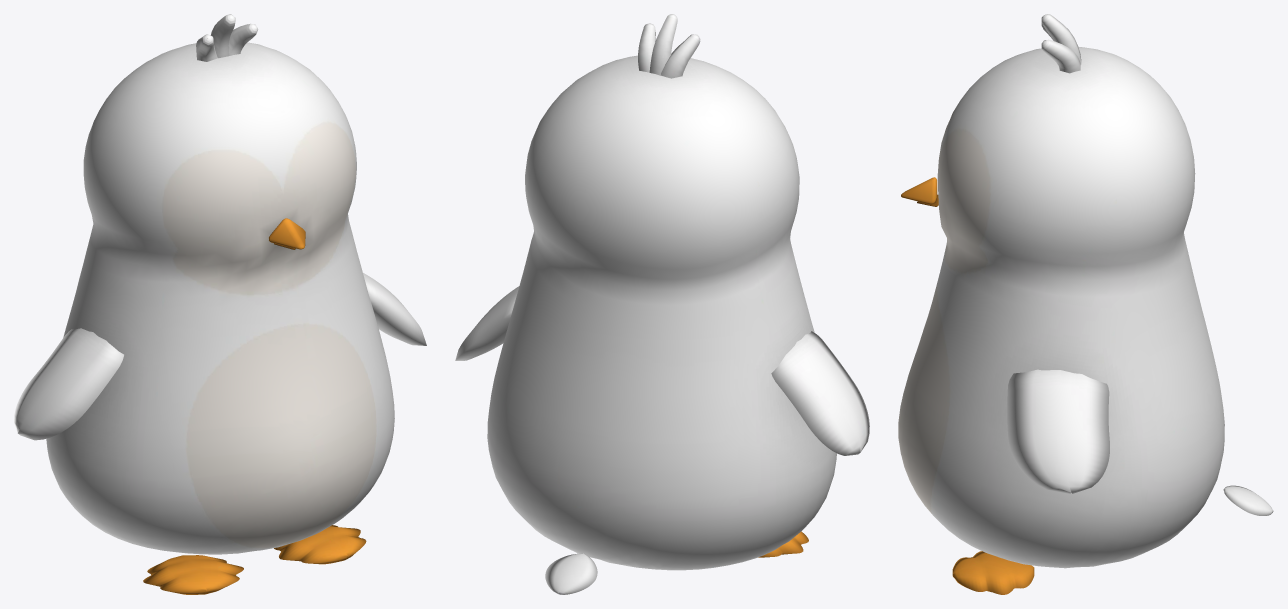
The model's file is pinguino.glb.
3 views of the same model, side by side, from view 1: azimuth 30°, elevation 25°; view 2: azimuth 150°, elevation 25°; view 3: azimuth 270°, elevation 25° (orthographic).
Parts seen in each view (by area): view 1: cuerpo, brazoI, brazoD, copete, cabeza; view 2: cuerpo, brazoI, copete, brazoD; view 3: cuerpo, brazoD, copete, cabeza.
Boxes of the visible parts, bbox=[...] form: cuerpo: bbox=[46, 42, 394, 594]; brazoI: bbox=[14, 328, 123, 440]; brazoD: bbox=[363, 273, 426, 345]; copete: bbox=[196, 14, 257, 61]; cabeza: bbox=[269, 218, 305, 249]; cuerpo: bbox=[487, 55, 836, 594]; brazoI: bbox=[771, 331, 869, 455]; copete: bbox=[638, 14, 700, 78]; brazoD: bbox=[455, 286, 519, 360]; cuerpo: bbox=[898, 46, 1273, 594]; brazoD: bbox=[1007, 369, 1109, 493]; copete: bbox=[1041, 14, 1081, 73]; cabeza: bbox=[901, 177, 938, 206].
Size of the model in its own units: 2.01 by 2.57 by 1.63.
2 materials, 2 textured.
